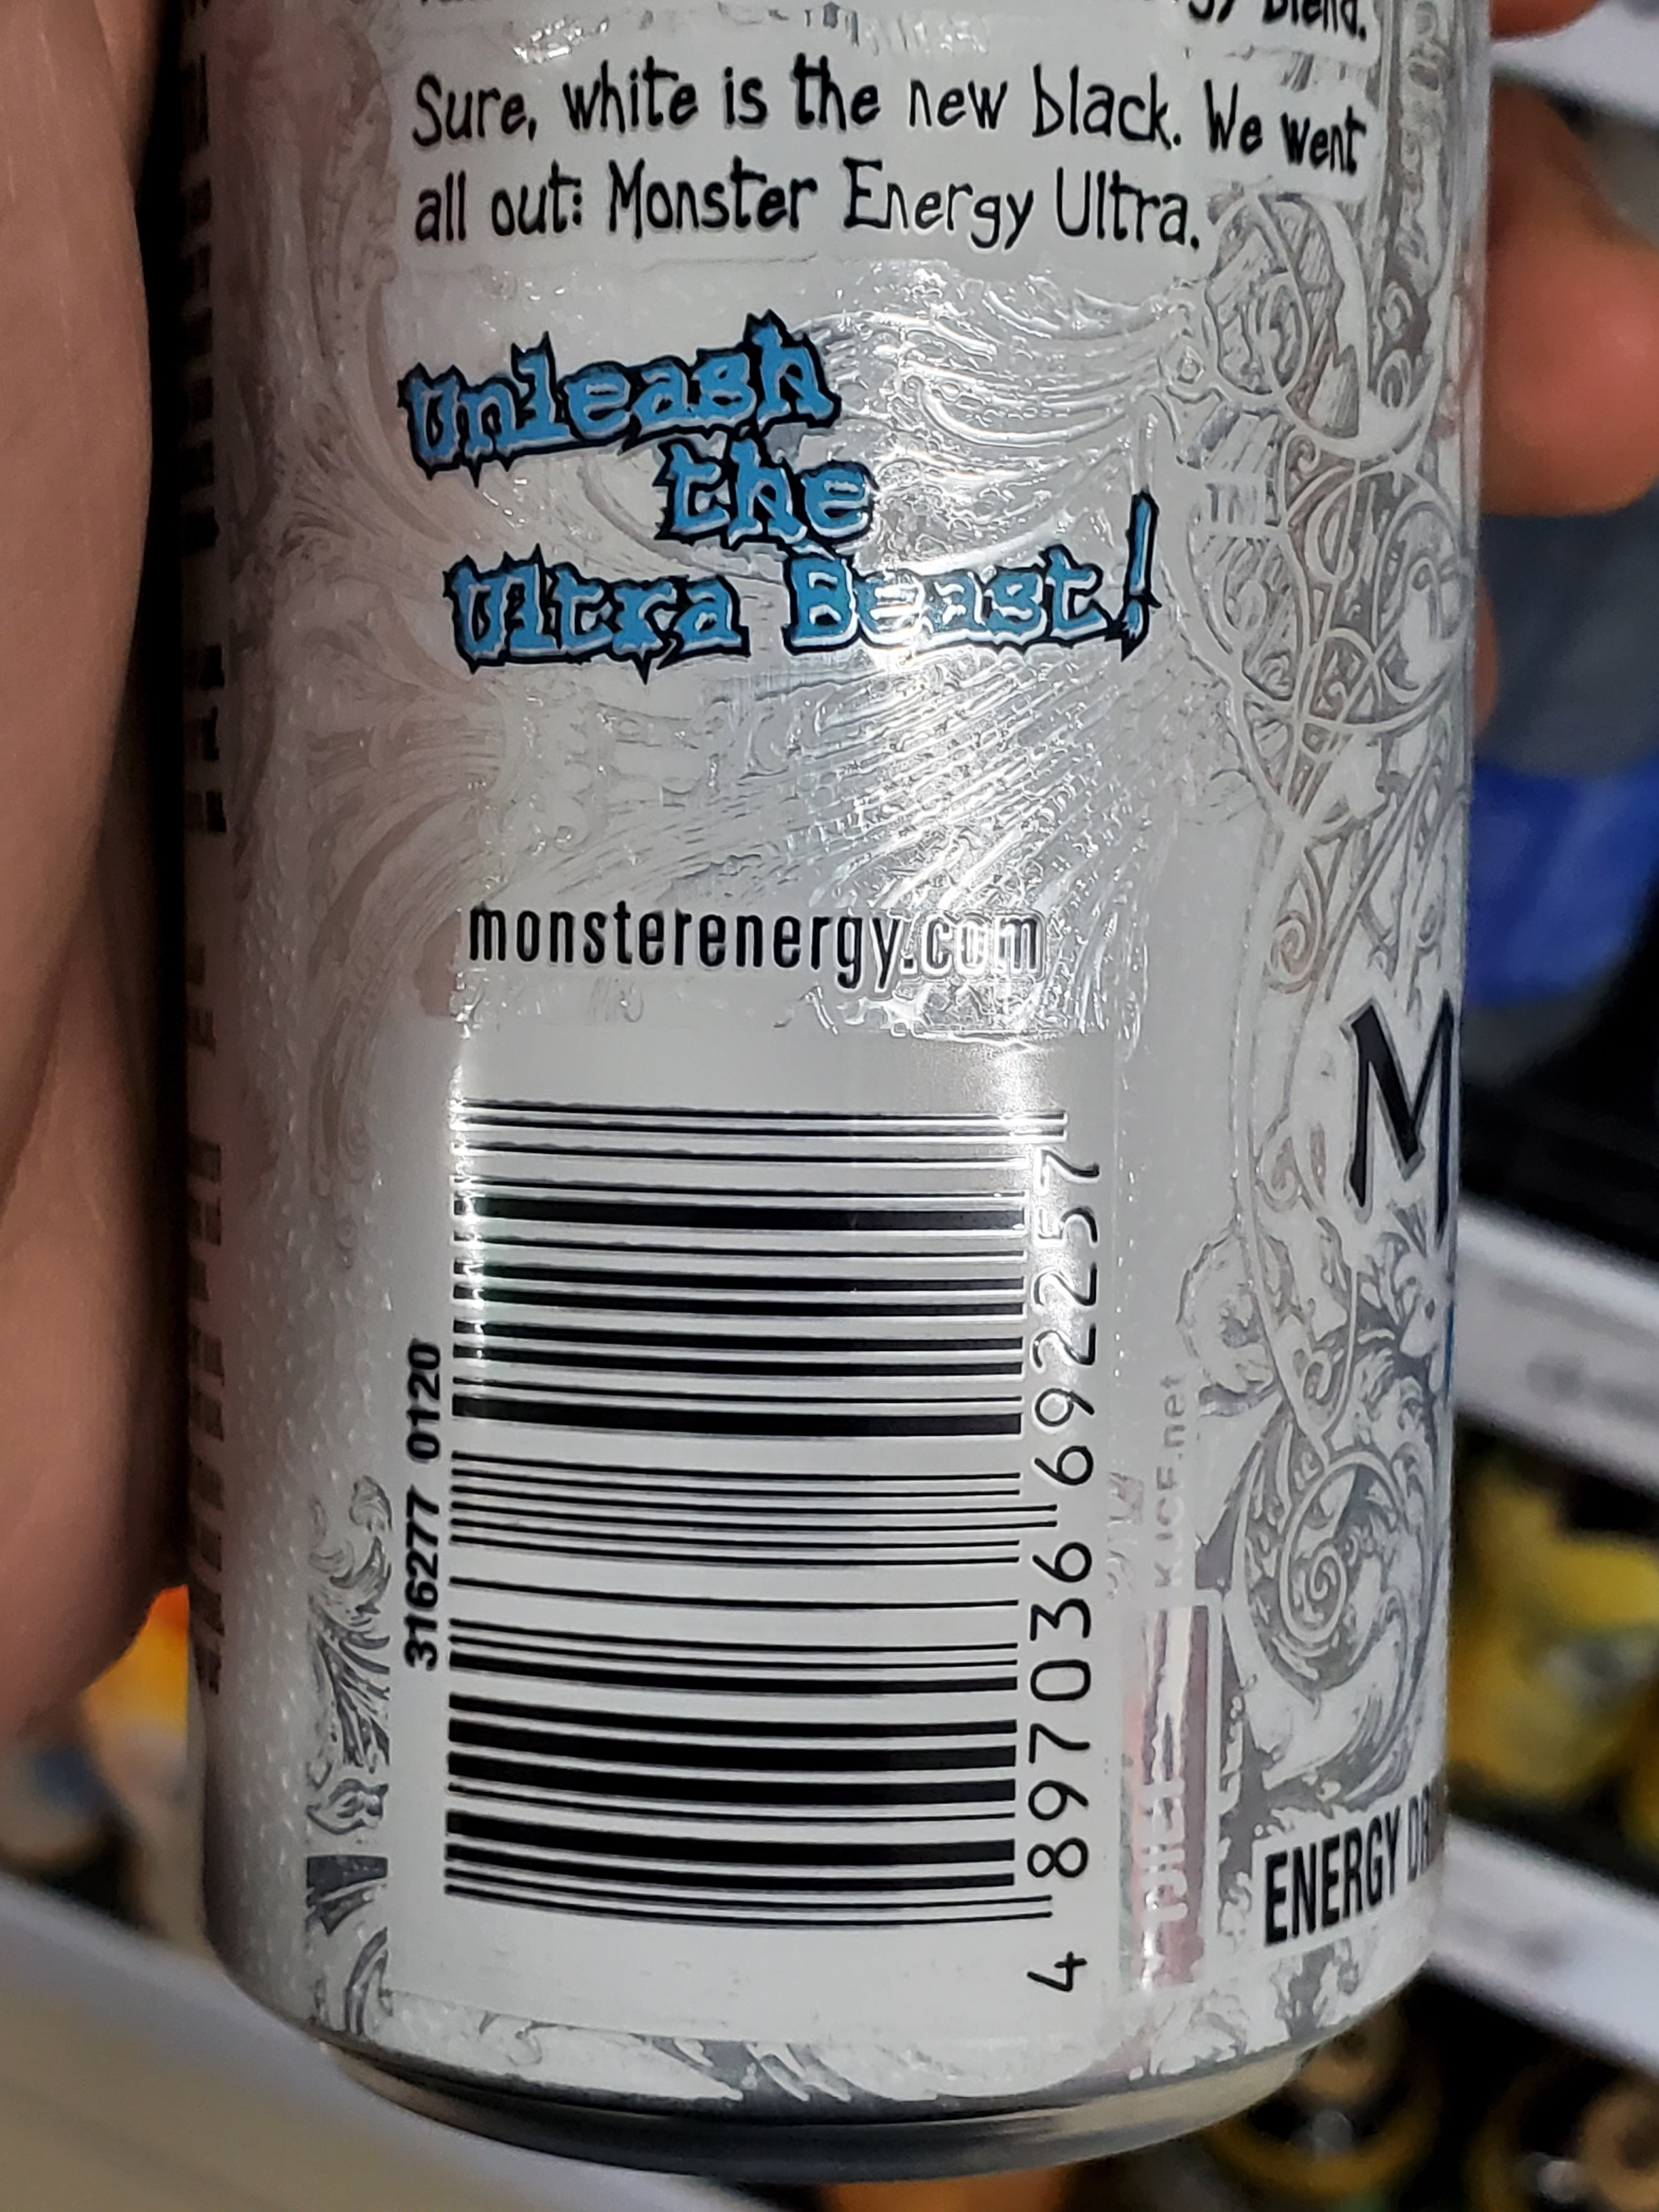barcode: (350, 974, 1143, 2064)
